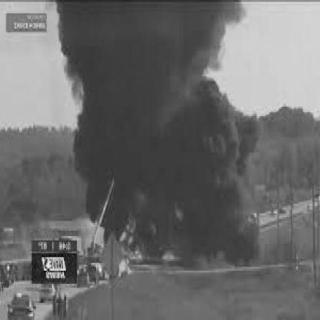Smoke: (68, 0, 247, 232)
